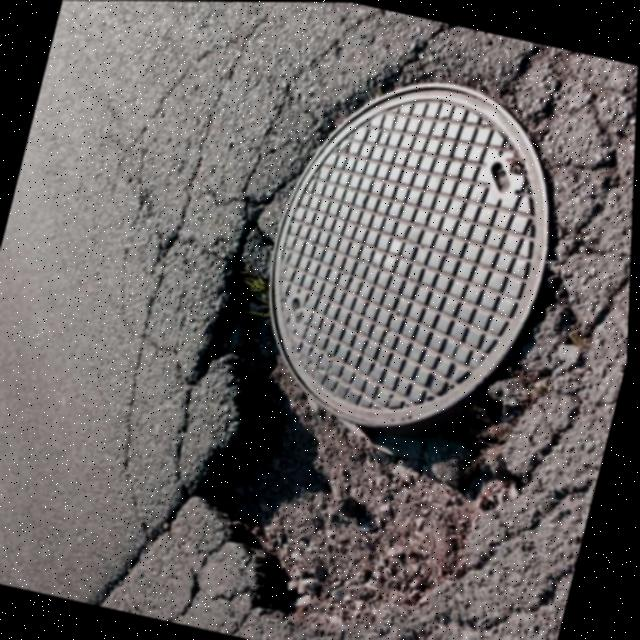Pothole: (61, 206, 615, 640)
